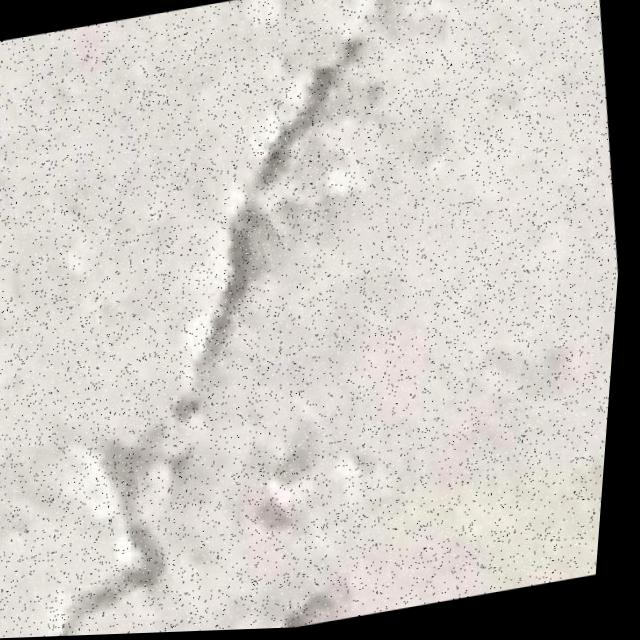Crack: (0, 26, 451, 640)
